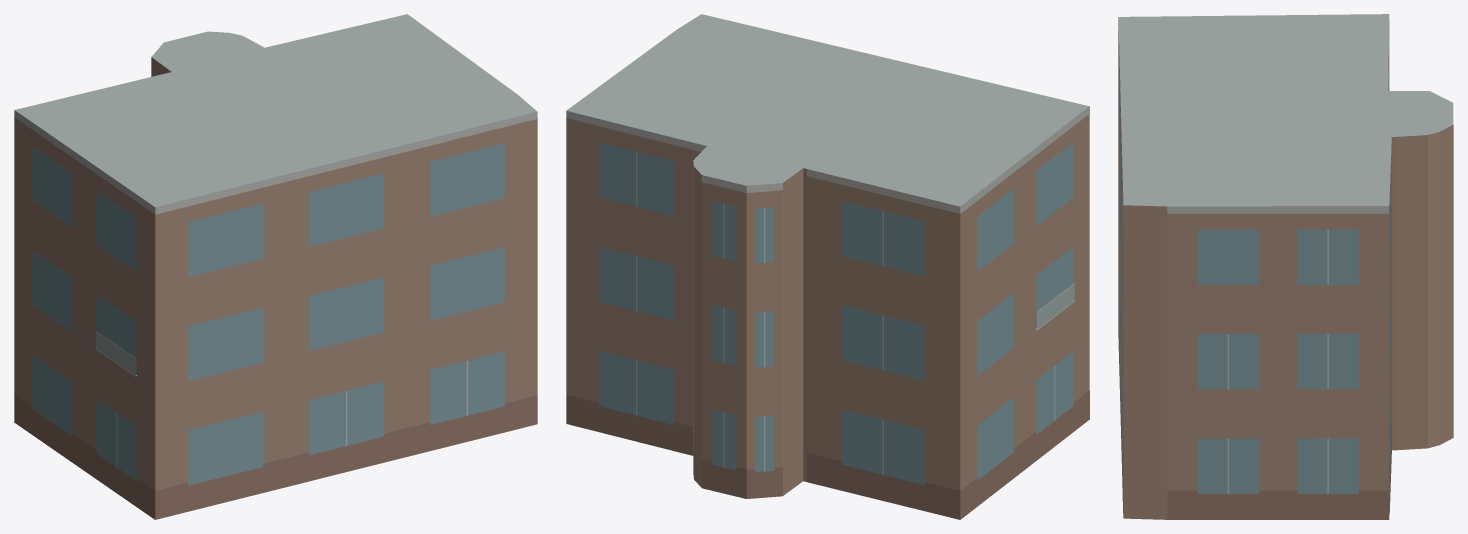
Rendered from survey-upis-32631872.glb.
The picture shows the model from 3 angles, left to right: view 1: azimuth 30°, elevation 25°; view 2: azimuth 150°, elevation 25°; view 3: azimuth 270°, elevation 25°; orthographic projection.
Visible parts, largest first — view 1: survey-upis-32631872.tmp; view 2: survey-upis-32631872.tmp; view 3: survey-upis-32631872.tmp.
Part boxes in pixels (x1,y1,x2,y2): survey-upis-32631872.tmp: [14, 14, 537, 519]; survey-upis-32631872.tmp: [566, 14, 1089, 519]; survey-upis-32631872.tmp: [1118, 14, 1453, 519].
Bounding box in the file's own units: 13.84 × 10.5 × 10.19.
